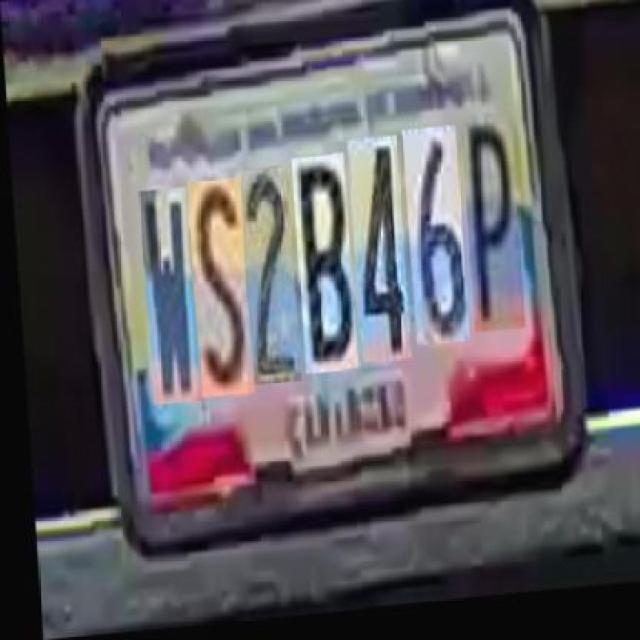2: (238, 172, 294, 390)
4: (345, 144, 407, 370)
6: (400, 136, 465, 356)
b: (290, 161, 353, 381)
p: (458, 122, 520, 344)
s: (185, 182, 248, 402)
w: (137, 190, 195, 408)
